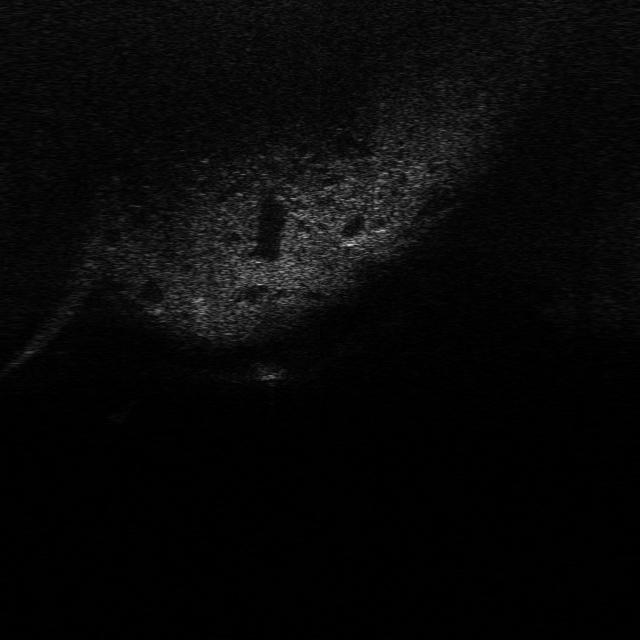cube: (250, 362, 290, 384)
cylinder: (103, 398, 143, 426)
